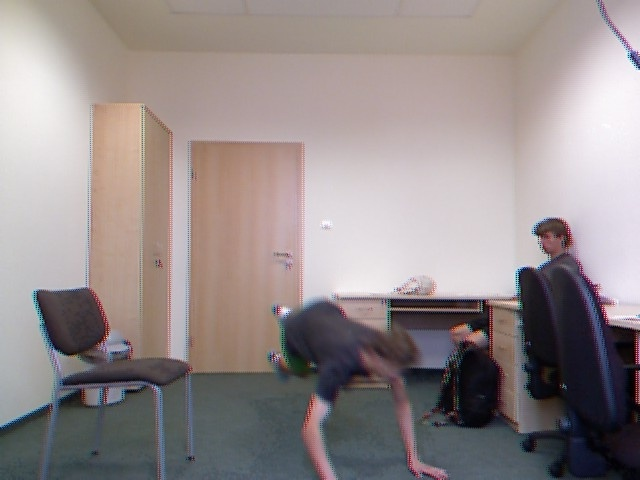fall: (263, 284, 452, 480)
not_fallen: (506, 213, 598, 296)
